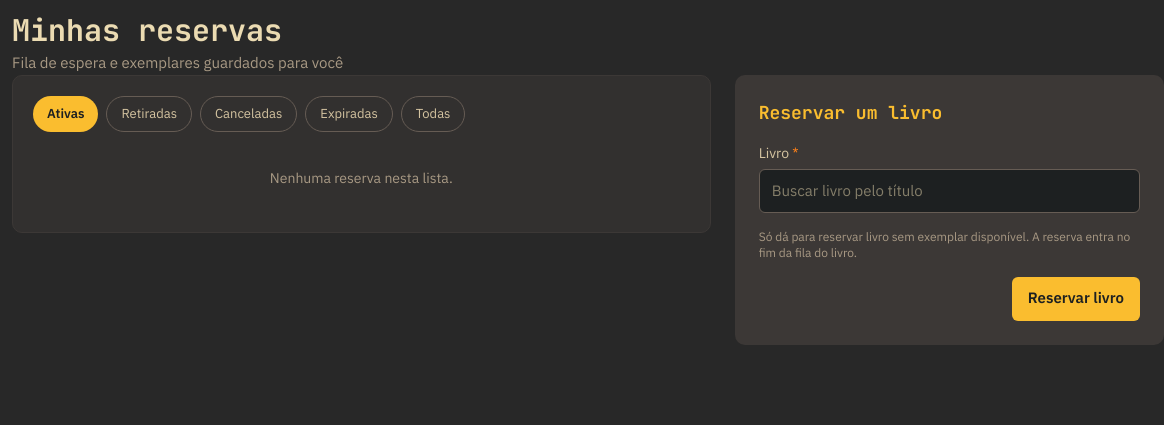
Test: minhas reservas › livro com exemplar disponível não é reservado
Type "Dom" into the search field labelled "Buscar livro pelo título" at (949,190), box [759, 168, 1140, 212]
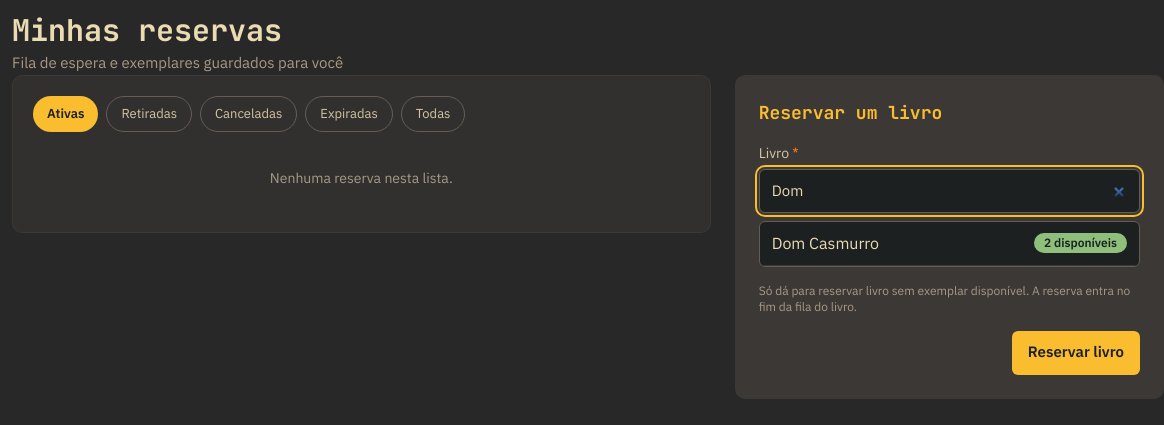
Click the button "Dom Casmurro 2 disponíveis" at (825,243), box [760, 222, 1139, 266]
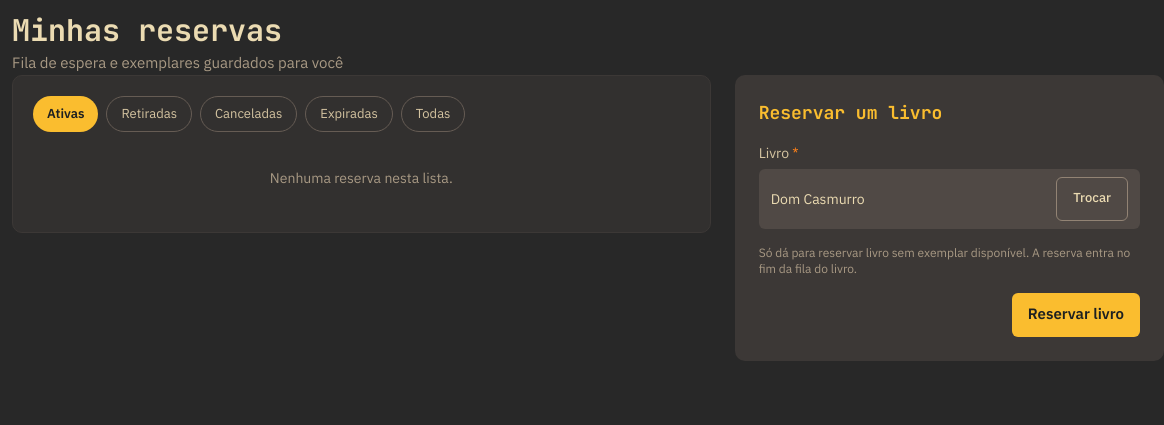
Click the button "Reservar livro" at (1076,314), box [1012, 292, 1140, 336]
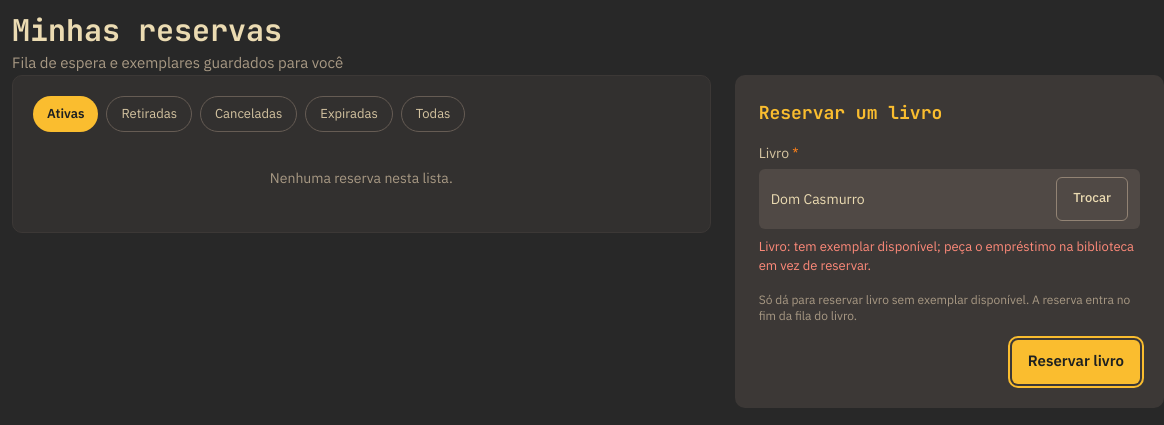
Now the text "tem exemplar disponível" is shown, box [759, 238, 1134, 274]
